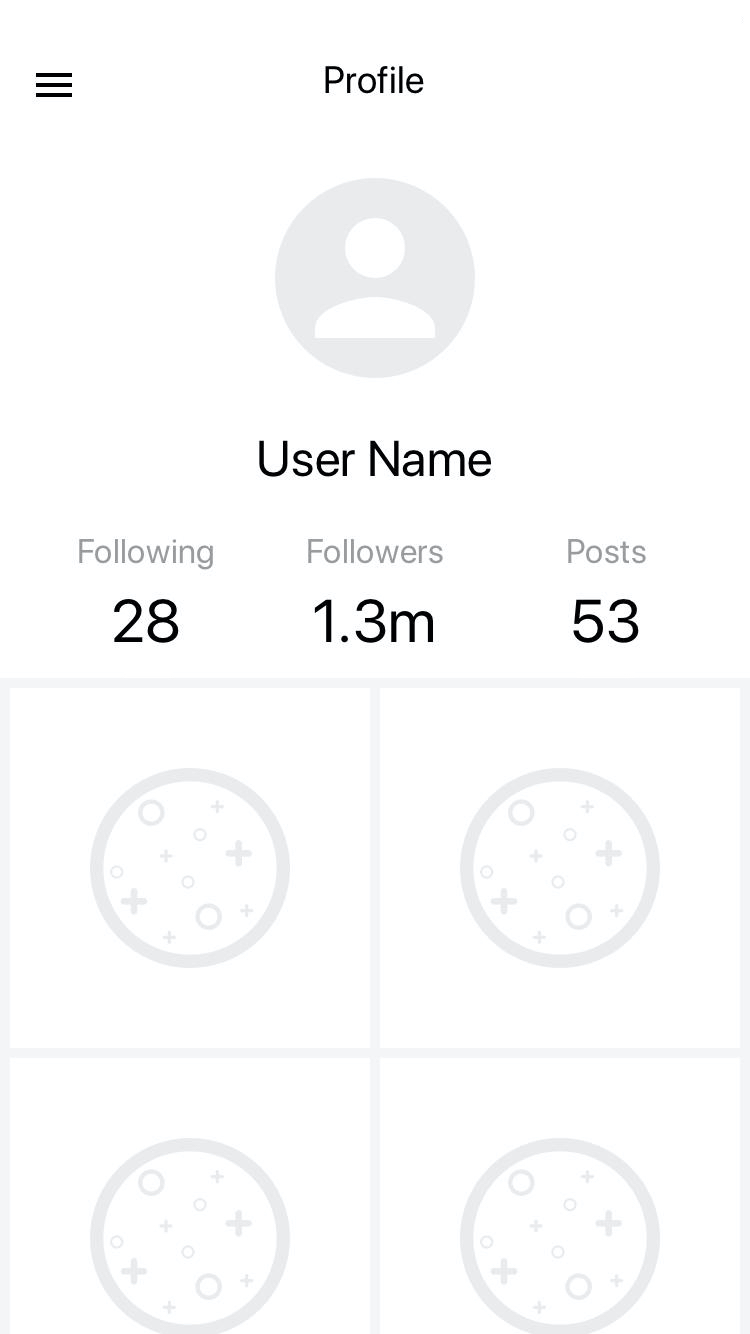Icon: (277, 179, 475, 380), (36, 73, 74, 99)
Image: (459, 767, 661, 969), (90, 768, 291, 969), (459, 1136, 661, 1334), (91, 1137, 291, 1334)
Text: (259, 441, 492, 478), (312, 598, 434, 643), (79, 537, 214, 571), (308, 538, 444, 565), (112, 599, 180, 644), (325, 65, 425, 95), (574, 600, 639, 643), (565, 538, 648, 566)
